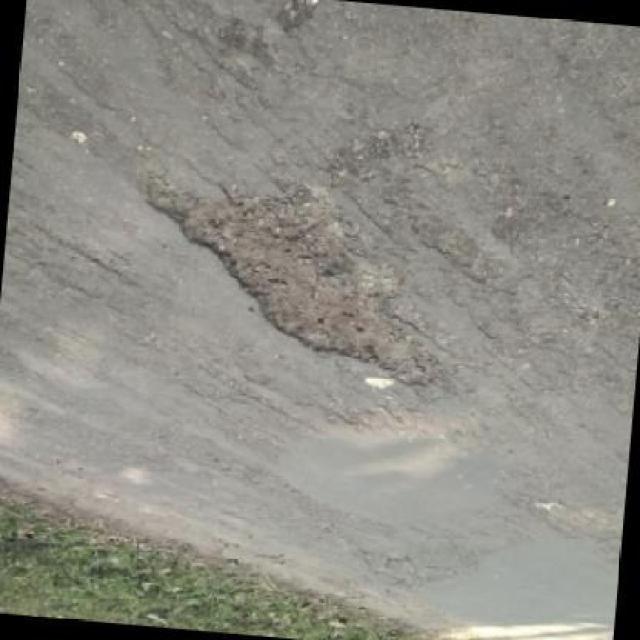pothole: (123, 160, 463, 394)
